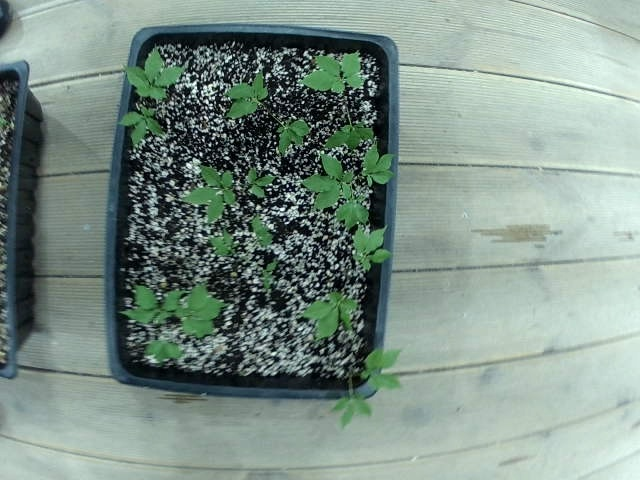수확기: (97, 96, 183, 159), (304, 138, 358, 220), (176, 284, 243, 349), (295, 283, 361, 347), (360, 133, 427, 196), (112, 275, 184, 332), (120, 42, 191, 99), (183, 159, 238, 229), (357, 343, 419, 405), (313, 376, 375, 438), (128, 333, 198, 381), (309, 44, 364, 105), (332, 216, 393, 269), (211, 73, 277, 119), (205, 221, 245, 269), (263, 115, 309, 155), (245, 160, 291, 199), (333, 116, 371, 156), (248, 253, 280, 300), (244, 207, 283, 245)
